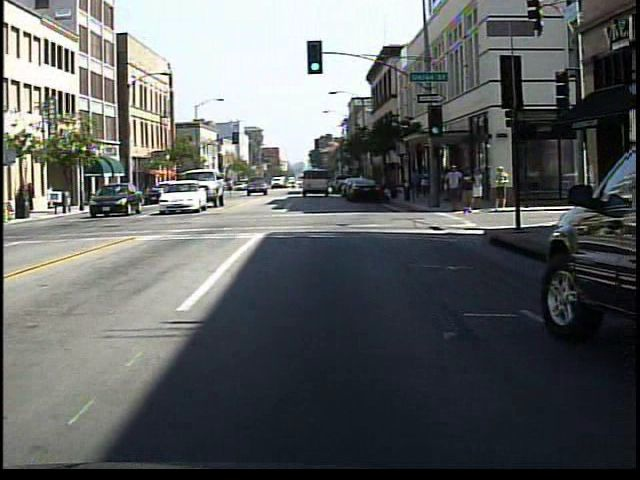person: (443, 163, 463, 214), (458, 166, 478, 215), (491, 164, 510, 215), (471, 165, 488, 215), (415, 164, 433, 207), (222, 174, 240, 202)
